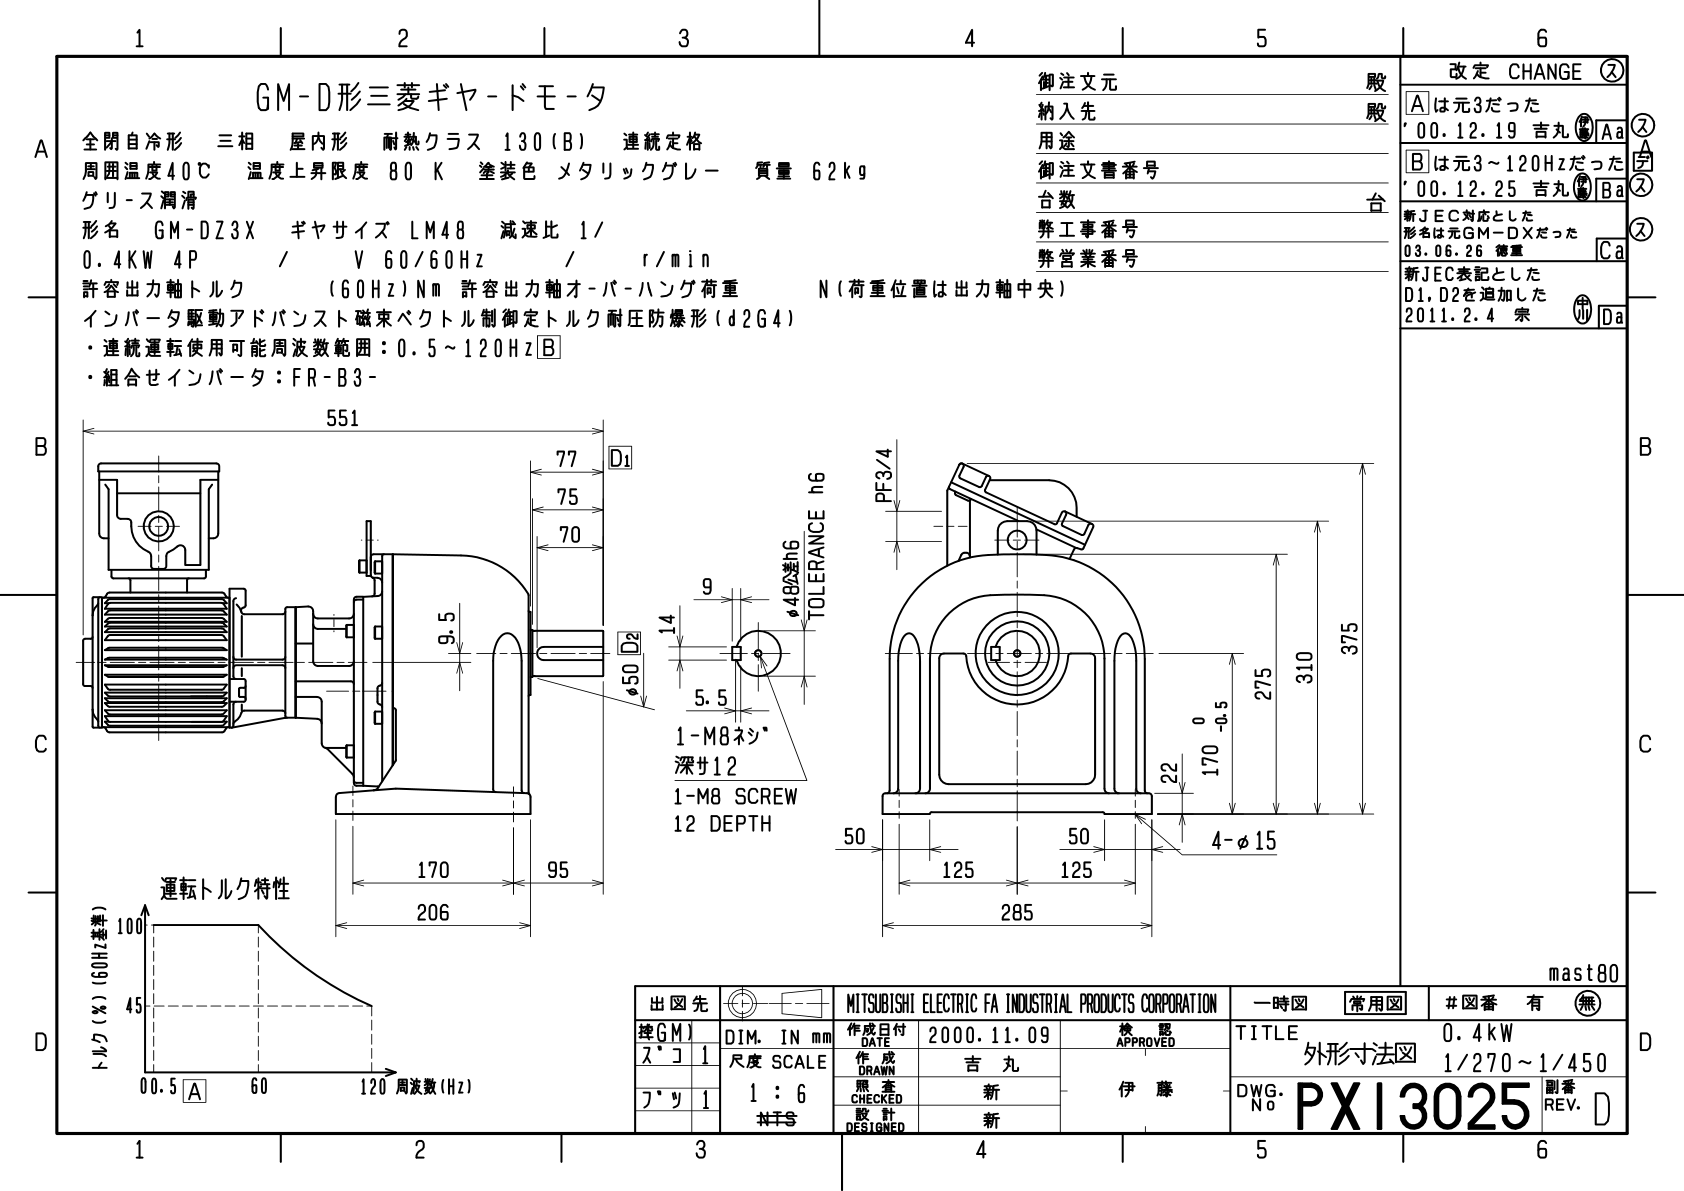GM_D_制御屋内_三相_脚: (64, 396, 1395, 963)
